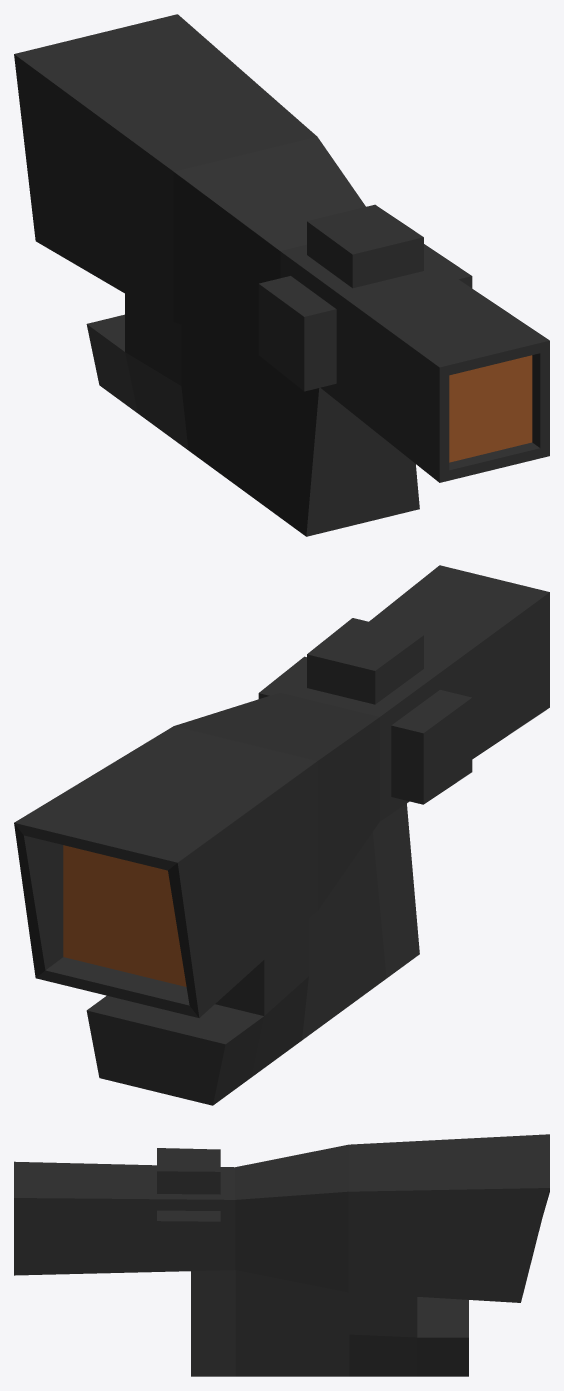
Rendered from ACOG_Scope.fbx.
3 renders of one model, top to bottom at view 1: azimuth 30°, elevation 25°; view 2: azimuth 150°, elevation 25°; view 3: azimuth 270°, elevation 25°, orthographic. The views are drawn at different scales.
Visible parts, largest first — view 1: ACOG Scope; view 2: ACOG Scope; view 3: ACOG Scope.
Boxes of the visible parts, x1,y1,x2,y2 form: ACOG Scope: (14,14,549,536); ACOG Scope: (14,565,549,1105); ACOG Scope: (14,1134,549,1376).
Bounding box in the file's own units: 5.22 × 8.77 × 21.47.
